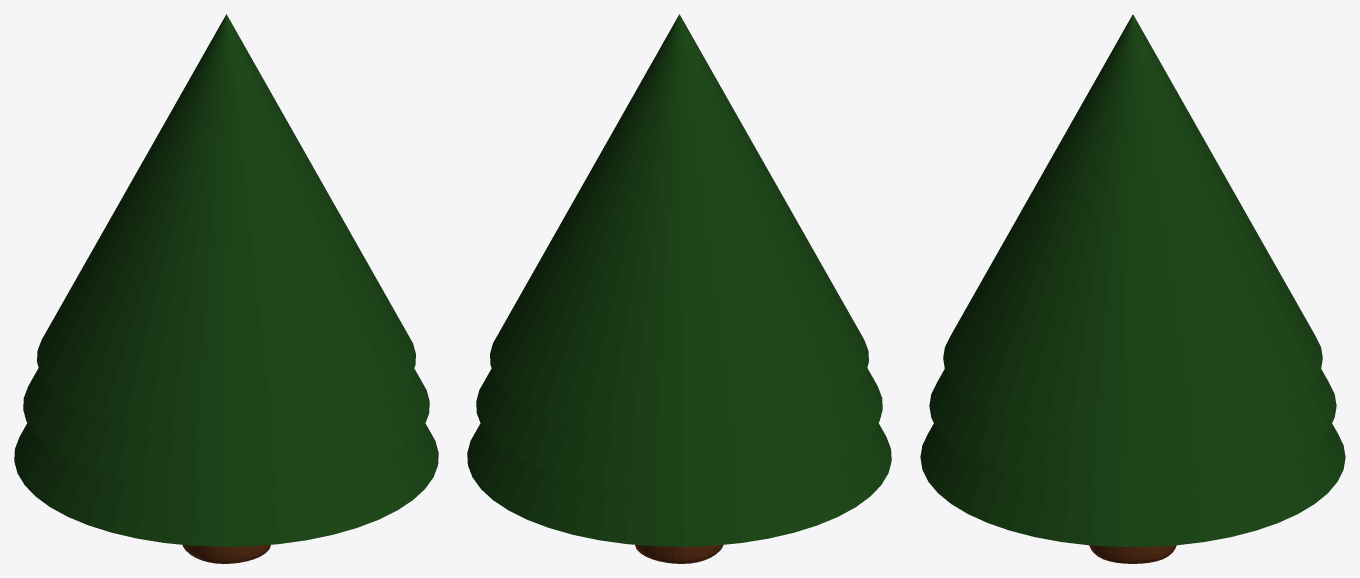
File: Tree 2.fbx
3 renders of one model, left to right at view 1: azimuth 30°, elevation 25°; view 2: azimuth 150°, elevation 25°; view 3: azimuth 270°, elevation 25°, orthographic.
Visible parts, largest first — view 1: Cone.001; view 2: Cone.001; view 3: Cone.001.
Boxes of the visible parts, box(x1,y1,x2,y2) form: Cone.001: box(14, 14, 438, 563); Cone.001: box(467, 14, 891, 563); Cone.001: box(920, 14, 1345, 563).
Bounding box in the file's own units: 862 × 1197 × 864.
